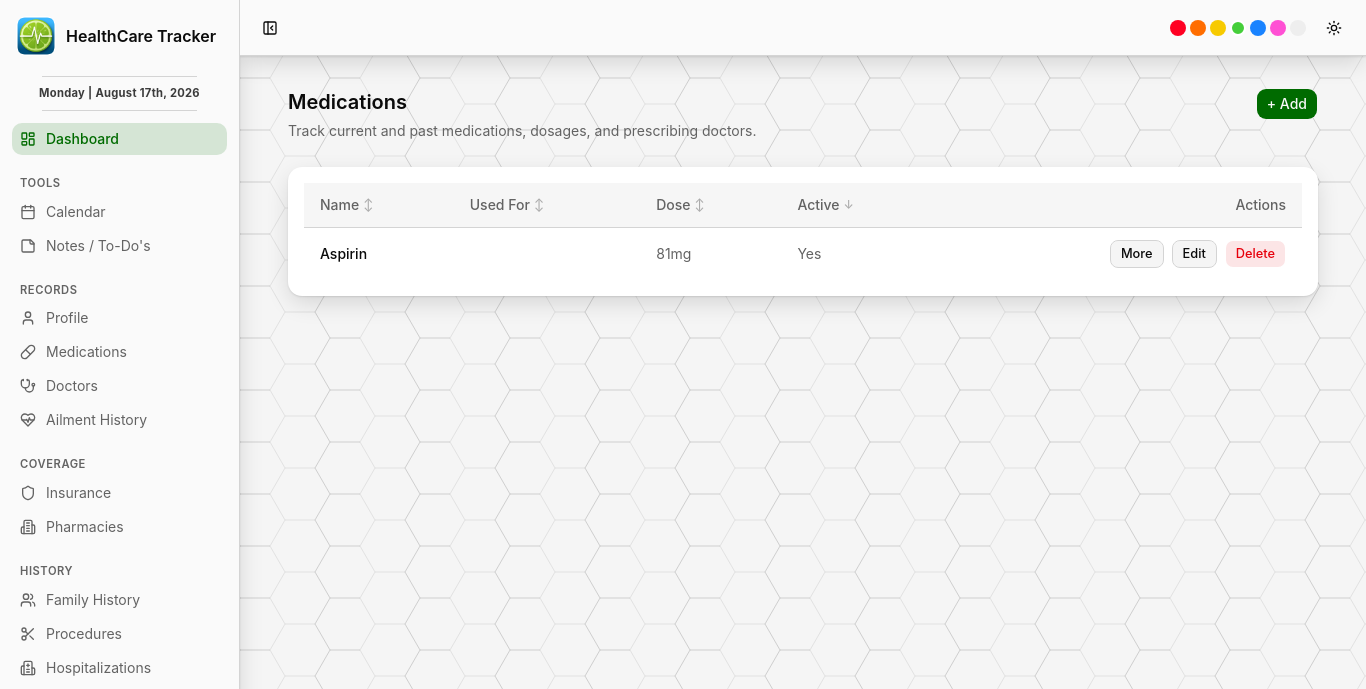
Test case: MedicationsPage › admin opens a pre-filled Edit modal from a row
The width and height of the screenshot is (1366, 689).
Note: the desktop row renders an Edit button per row
Step 1. Click the button "edit " → (1194, 254), box [1172,240,1217,268]
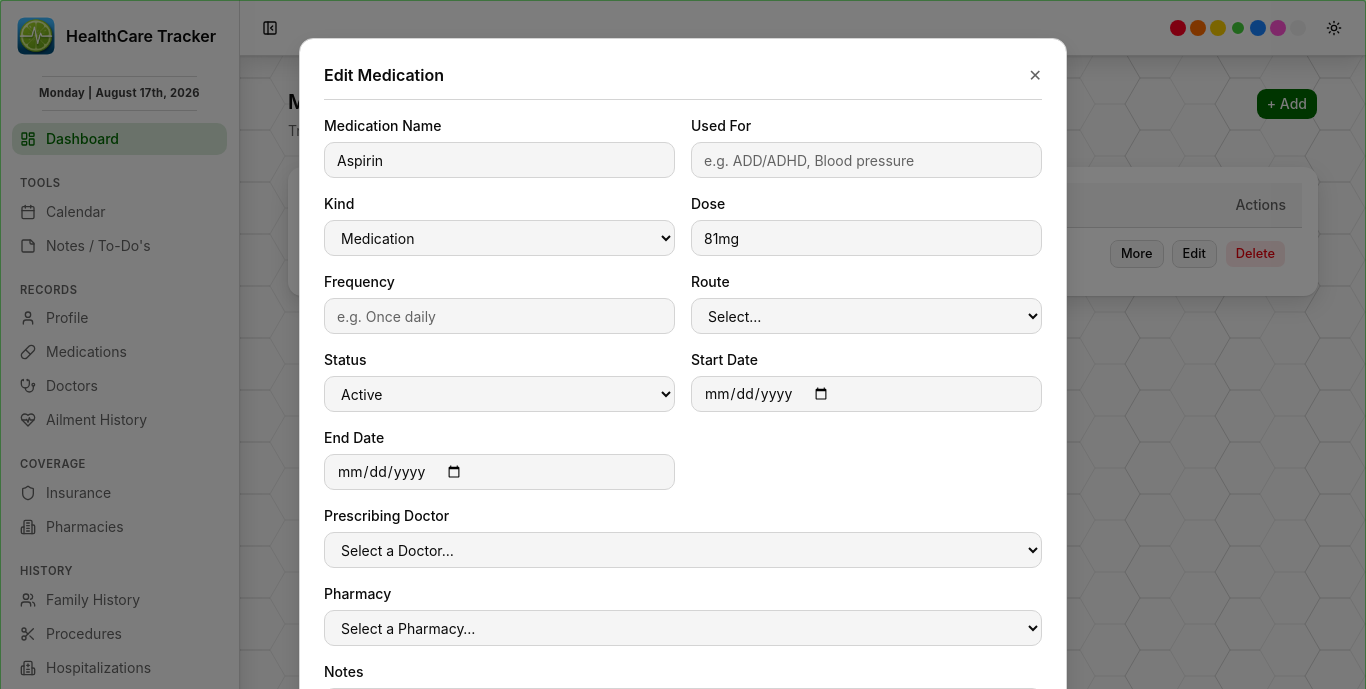
Expected: the field labelled "Medication Name" holds "Aspirin", [324,142,675,178]
